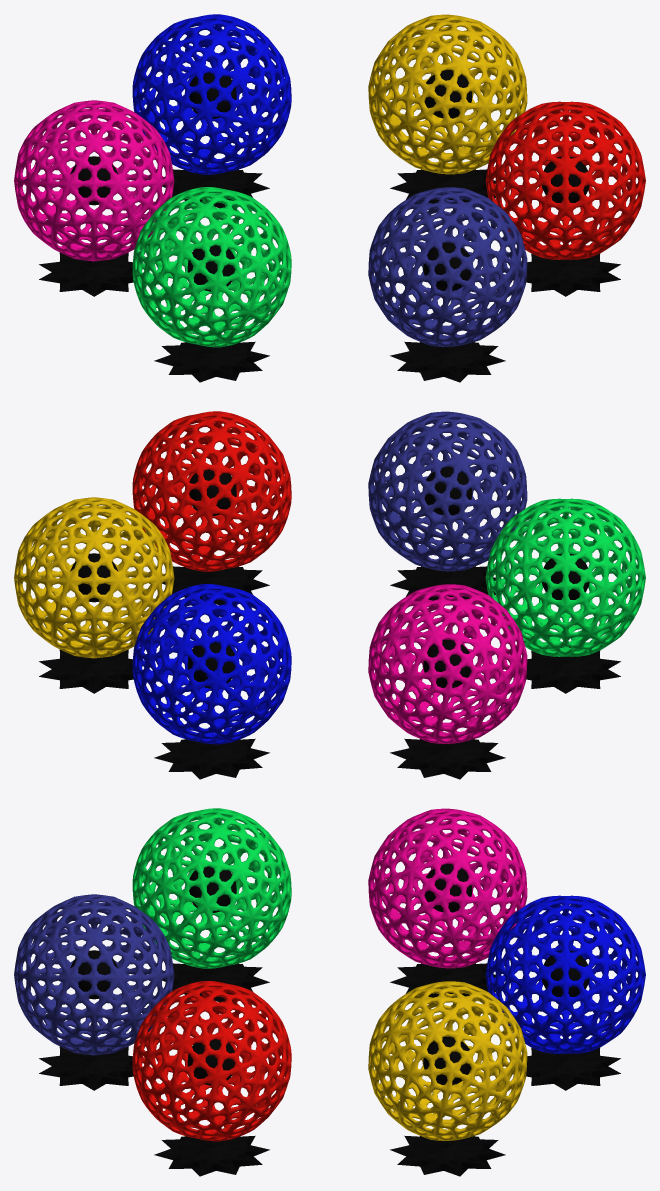
3 views of the same model, one above another, from view 1: azimuth 30°, elevation 25°; view 2: azimuth 150°, elevation 25°; view 3: azimuth 270°, elevation 25° (orthographic).
Visible parts, largest first — view 1: Icosphere.008, Icosphere.015, Icosphere.002, Icosphere.014, Icosphere.017, Icosphere.005, Icosphere.012, Icosphere.007, Icosphere.016, Icosphere.001, Icosphere.004, Icosphere.013 (+6 smaller); view 2: Icosphere.014, Icosphere.002, Icosphere.005, Icosphere.017, Icosphere.008, Icosphere.015, Icosphere.001, Icosphere.013, Icosphere.007, Icosphere.004, Icosphere.012, Icosphere.016 (+6 smaller); view 3: Icosphere.017, Icosphere.005, Icosphere.015, Icosphere.008, Icosphere.014, Icosphere.002, Icosphere.004, Icosphere.016, Icosphere.013, Icosphere.012, Icosphere.001, Icosphere.007 (+6 smaller).
Part boxes in pixels (x1=…): Icosphere.008: x1=132, y1=187, x2=291, y2=347; Icosphere.015: x1=368, y1=187, x2=527, y2=346; Icosphere.002: x1=14, y1=100, x2=174, y2=261; Icosphere.014: x1=132, y1=14, x2=291, y2=174; Icosphere.017: x1=485, y1=101, x2=645, y2=259; Icosphere.005: x1=368, y1=14, x2=527, y2=174; Icosphere.012: x1=390, y1=341, x2=505, y2=382; Icosphere.007: x1=154, y1=334, x2=269, y2=382; Icosphere.016: x1=513, y1=250, x2=620, y2=296; Icosphere.001: x1=39, y1=252, x2=133, y2=296; Icosphere.004: x1=390, y1=169, x2=495, y2=203; Icosphere.013: x1=162, y1=162, x2=269, y2=208; Icosphere.014: x1=132, y1=584, x2=291, y2=744; Icosphere.002: x1=368, y1=584, x2=527, y2=743; Icosphere.005: x1=14, y1=497, x2=174, y2=658; Icosphere.017: x1=132, y1=411, x2=291, y2=571; Icosphere.008: x1=485, y1=498, x2=645, y2=656; Icosphere.015: x1=368, y1=411, x2=527, y2=571; Icosphere.001: x1=390, y1=738, x2=505, y2=779; Icosphere.013: x1=154, y1=731, x2=269, y2=779; Icosphere.007: x1=513, y1=647, x2=620, y2=693; Icosphere.004: x1=39, y1=649, x2=133, y2=693; Icosphere.012: x1=390, y1=566, x2=495, y2=600; Icosphere.016: x1=162, y1=559, x2=269, y2=605; Icosphere.017: x1=132, y1=981, x2=291, y2=1141; Icosphere.005: x1=368, y1=981, x2=527, y2=1140; Icosphere.015: x1=14, y1=894, x2=174, y2=1055; Icosphere.008: x1=132, y1=808, x2=291, y2=968; Icosphere.014: x1=485, y1=895, x2=645, y2=1053; Icosphere.002: x1=368, y1=808, x2=527, y2=968; Icosphere.004: x1=390, y1=1135, x2=505, y2=1176; Icosphere.016: x1=154, y1=1128, x2=269, y2=1176; Icosphere.013: x1=513, y1=1044, x2=620, y2=1090; Icosphere.012: x1=39, y1=1046, x2=133, y2=1090; Icosphere.001: x1=390, y1=963, x2=495, y2=997; Icosphere.007: x1=162, y1=956, x2=269, y2=1002.
Size of what is drawn, in the model's own units: 6.04 by 1.95 by 6.7.
